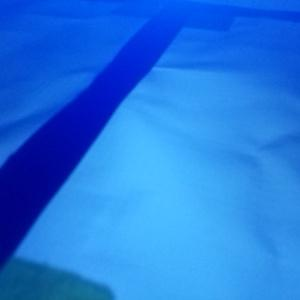bottom_left: (107, 1, 188, 20)
bottom_right: (168, 5, 234, 32)
top_right: (1, 257, 114, 300)
